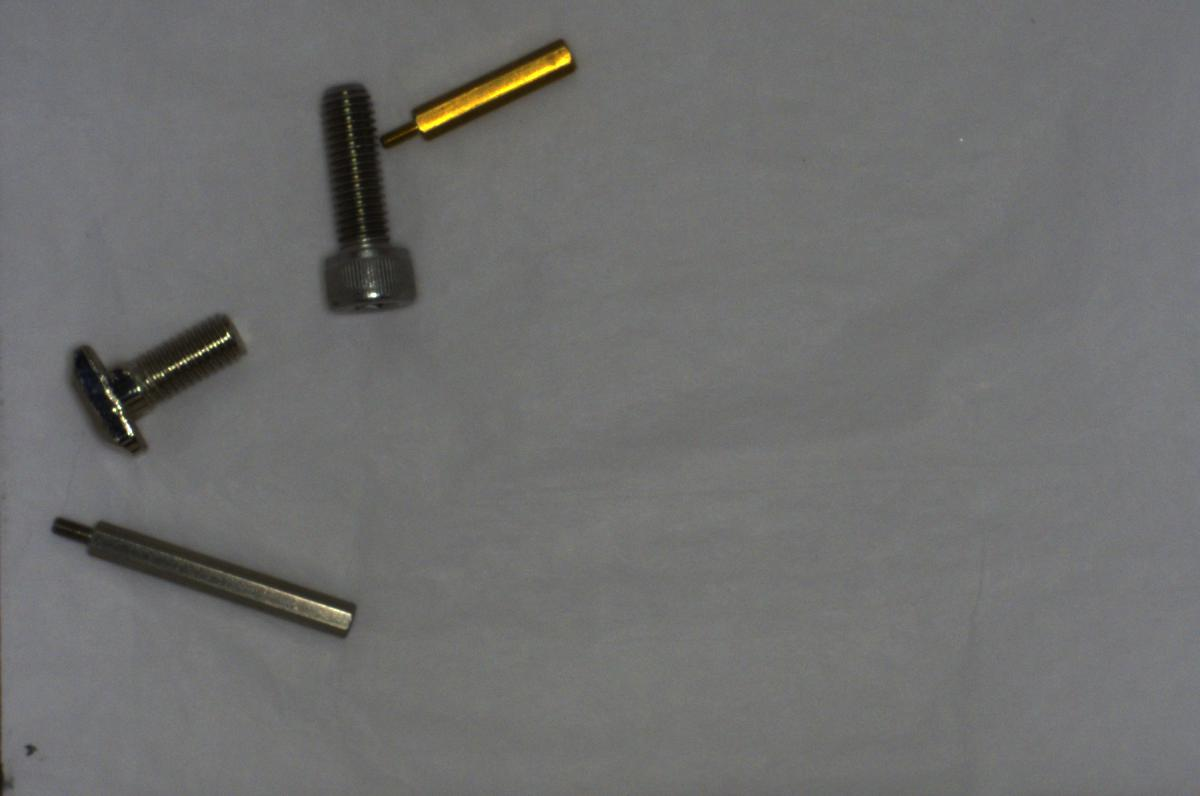Hexagon pillar: (374, 36, 582, 153)
Hexagon screw: (298, 75, 425, 318)
Hexagonal steel column: (45, 505, 365, 642)
T-shaped screw: (62, 308, 252, 458)
